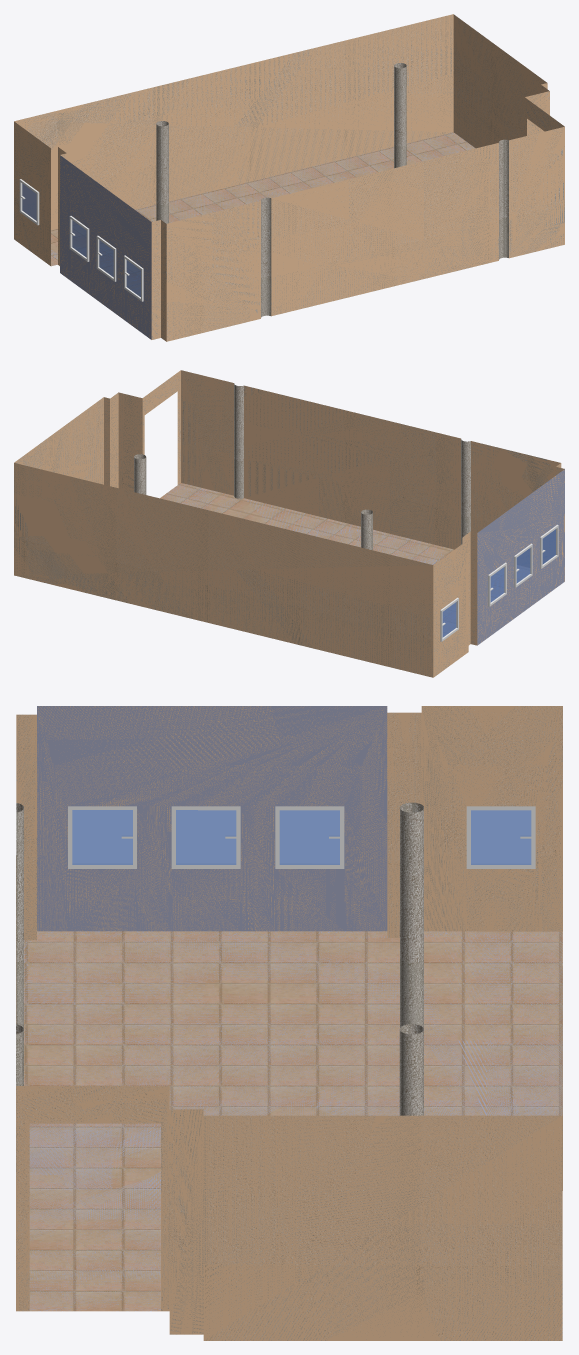
File: AUL024.obj
3 views of the same model, one above another, from view 1: azimuth 30°, elevation 25°; view 2: azimuth 150°, elevation 25°; view 3: azimuth 270°, elevation 25° (orthographic). The views are drawn at different scales.
Visible parts, largest first — view 1: Mesh13 AUL024 Model, Mesh7 ventana3_1_3 AUL024 Model, Mesh10 ventana3_1_4 AUL024 Model, Mesh1 ventana3_1_1 AUL024 Model, Mesh4 ventana3_1_2 AUL024 Model; view 2: Mesh13 AUL024 Model, Mesh1 ventana3_1_1 AUL024 Model, Mesh4 ventana3_1_2 AUL024 Model, Mesh7 ventana3_1_3 AUL024 Model, Mesh10 ventana3_1_4 AUL024 Model; view 3: Mesh13 AUL024 Model, Mesh1 ventana3_1_1 AUL024 Model, Mesh7 ventana3_1_3 AUL024 Model, Mesh10 ventana3_1_4 AUL024 Model, Mesh4 ventana3_1_2 AUL024 Model.
Boxes of the visible parts, box(x1,y1,x2,y2) form: Mesh13 AUL024 Model: box(14, 14, 564, 341); Mesh7 ventana3_1_3 AUL024 Model: box(96, 235, 116, 281); Mesh10 ventana3_1_4 AUL024 Model: box(19, 179, 39, 225); Mesh1 ventana3_1_1 AUL024 Model: box(69, 216, 89, 261); Mesh4 ventana3_1_2 AUL024 Model: box(124, 255, 143, 301); Mesh13 AUL024 Model: box(14, 370, 564, 677); Mesh1 ventana3_1_1 AUL024 Model: box(488, 562, 506, 606); Mesh4 ventana3_1_2 AUL024 Model: box(540, 524, 558, 568); Mesh7 ventana3_1_3 AUL024 Model: box(514, 543, 532, 587); Mesh10 ventana3_1_4 AUL024 Model: box(440, 597, 458, 641); Mesh13 AUL024 Model: box(16, 706, 562, 1340); Mesh1 ventana3_1_1 AUL024 Model: box(275, 806, 344, 868); Mesh7 ventana3_1_3 AUL024 Model: box(171, 806, 240, 868); Mesh10 ventana3_1_4 AUL024 Model: box(466, 806, 535, 868); Mesh4 ventana3_1_2 AUL024 Model: box(68, 806, 136, 868).
Bounding box in the file's own units: 14.08 × 3.6 × 7.92.
7 materials, 2 textured.
